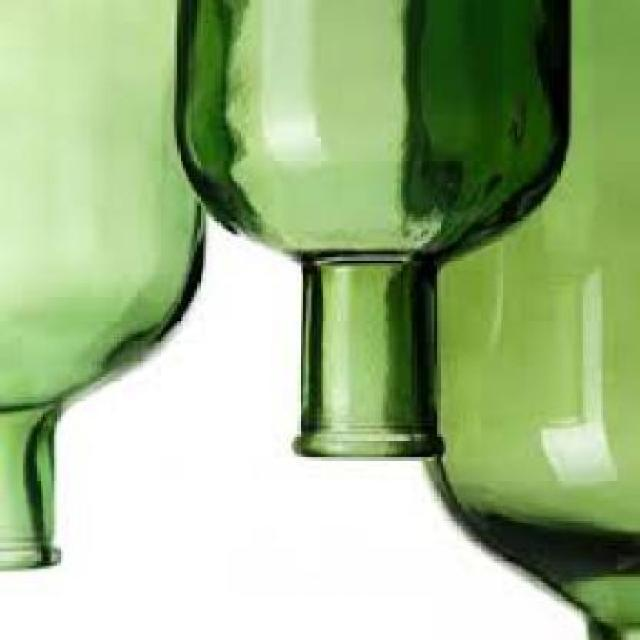GLASS: (178, 3, 572, 460), (428, 1, 638, 638), (2, 2, 208, 572)
